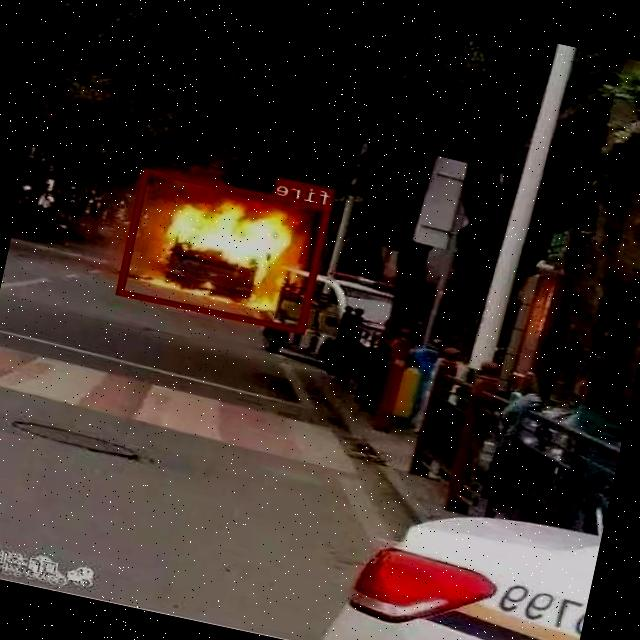fire: (118, 166, 332, 332)
